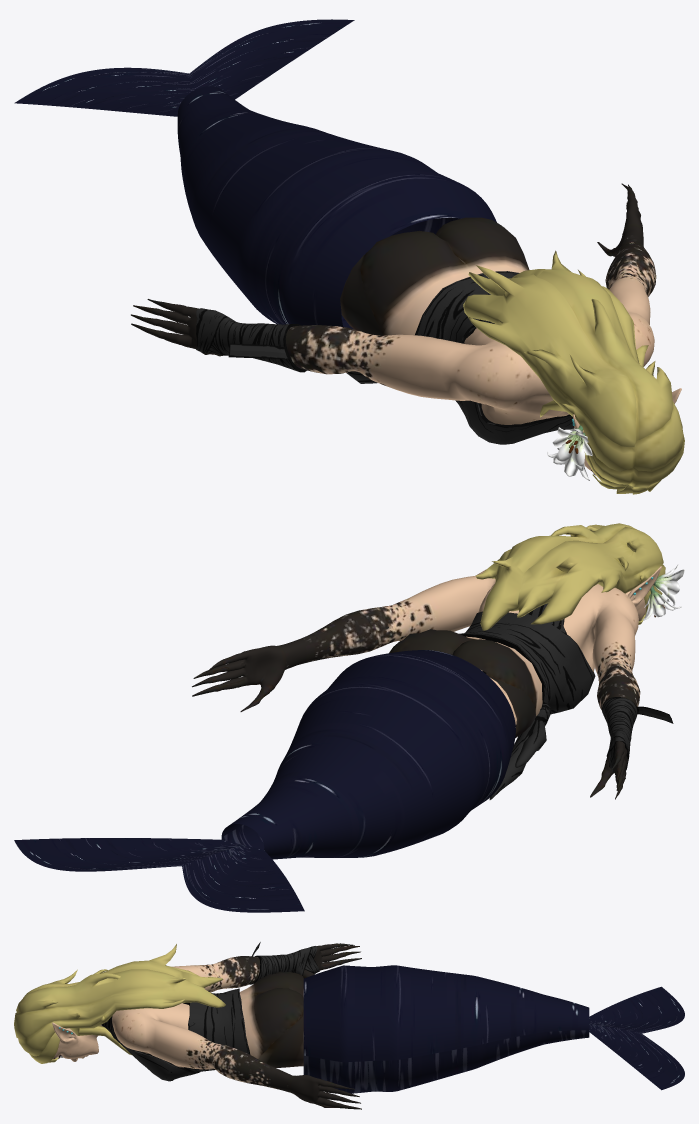
Rendered from merb.glb.
3 views of the same model, one above another, from view 1: azimuth 30°, elevation 25°; view 2: azimuth 150°, elevation 25°; view 3: azimuth 270°, elevation 25° (orthographic). The views are drawn at different scales.
Parts seen in each view (by area): view 1: Enclosed_Fish_Tail, Upper_Body, Abdomen, Clothing, Hair_Flower; view 2: Enclosed_Fish_Tail, Upper_Body, Clothing, Abdomen, Hair_Flower; view 3: Enclosed_Fish_Tail, Upper_Body, Abdomen, Clothing.
Part boxes in pixels (left/top/right/bottom): Enclosed_Fish_Tail: left=14, top=19, right=496, bottom=329; Upper_Body: left=131, top=183, right=684, bottom=494; Abdomen: left=340, top=217, right=529, bottom=335; Clothing: left=196, top=271, right=574, bottom=444; Hair_Flower: left=547, top=425, right=592, bottom=480; Enclosed_Fish_Tail: left=14, top=650, right=515, bottom=912; Upper_Body: left=192, top=523, right=665, bottom=799; Clothing: left=459, top=603, right=673, bottom=799; Abdomen: left=389, top=629, right=542, bottom=737; Hair_Flower: left=642, top=564, right=684, bottom=620; Enclosed_Fish_Tail: left=303, top=965, right=684, bottom=1093; Upper_Body: left=14, top=943, right=361, bottom=1109; Abdomen: left=239, top=971, right=303, bottom=1067; Clothing: left=101, top=942, right=319, bottom=1081.
Size of the model in its own units: 1.08 by 0.4227 by 2.02.
Materials: 3 (3 with a texture image).
